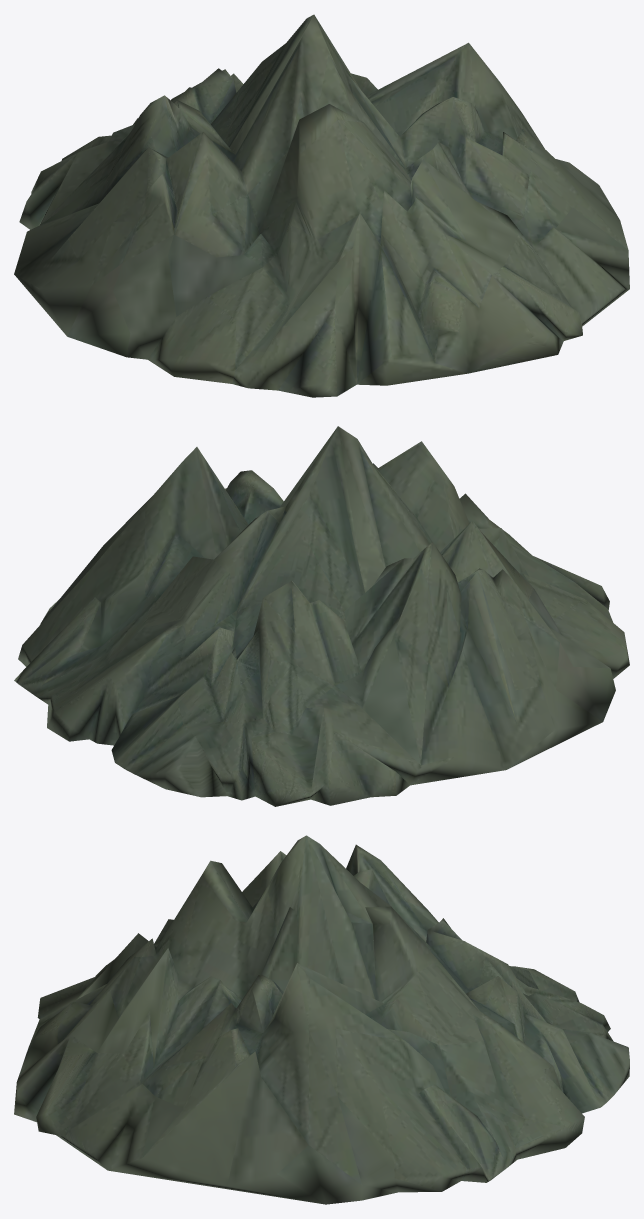
File: arena-ridge.glb
3 views of the same model, one above another, from view 1: azimuth 30°, elevation 25°; view 2: azimuth 150°, elevation 25°; view 3: azimuth 270°, elevation 25° (orthographic). The views are drawn at different scales.
Bounding box in the file's own units: 0.9336 × 0.4107 × 0.9614.
Materials: 1 (1 with a texture image).
